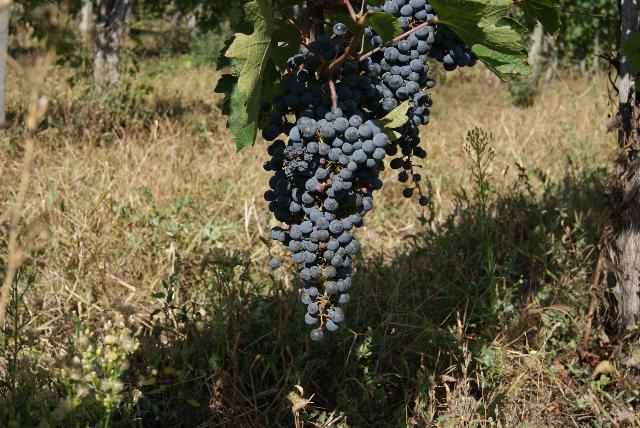grapes: (275, 108, 386, 341)
